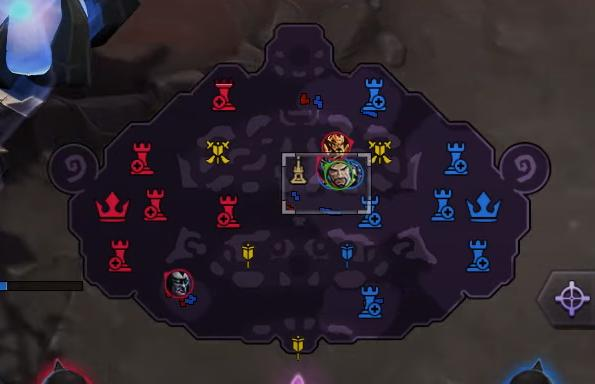blue nexus: (465, 189, 502, 223)
blue player: (331, 159, 365, 191)
blue tower: (360, 76, 387, 118), (357, 283, 385, 319), (443, 140, 469, 176), (430, 187, 456, 222), (466, 238, 492, 273), (357, 193, 382, 228)
red nexus: (94, 190, 131, 223)
red player: (163, 268, 195, 301), (320, 129, 354, 160)
red tower: (211, 77, 237, 111), (130, 140, 155, 175), (108, 239, 133, 273), (143, 188, 168, 222), (216, 194, 241, 228)
